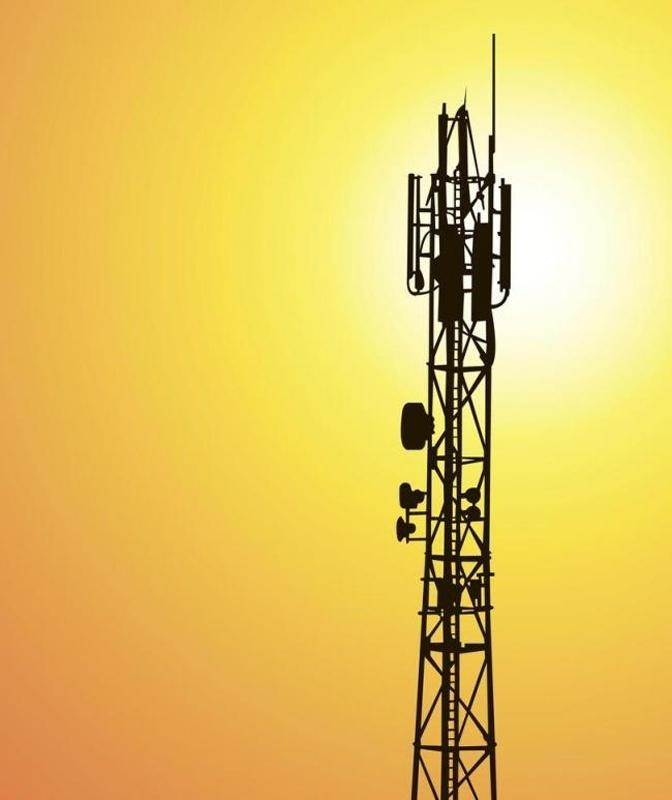power_tower: (399, 112, 518, 794)
